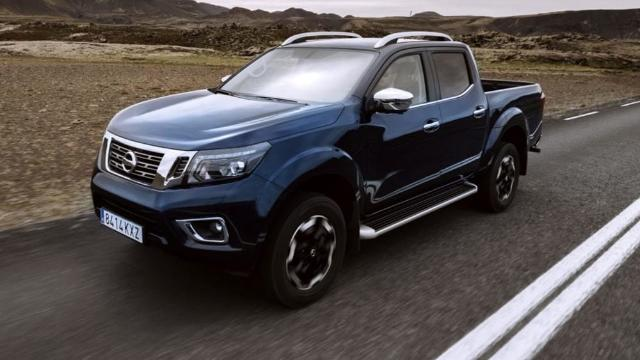pickup-truck: (93, 32, 545, 304)
